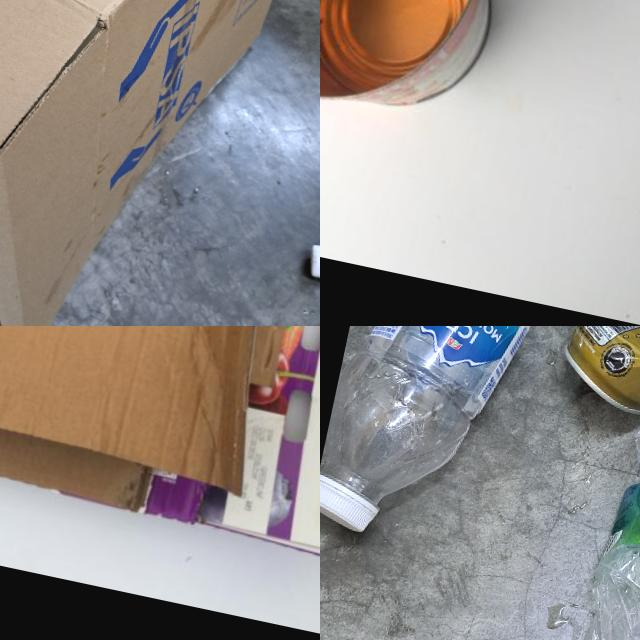garrafa plástica: (320, 326, 622, 542), (563, 387, 640, 640)
lata: (320, 0, 536, 134)
papelão: (0, 0, 320, 326), (0, 326, 320, 564)
tampa plástica: (320, 466, 387, 542), (306, 243, 320, 277)
